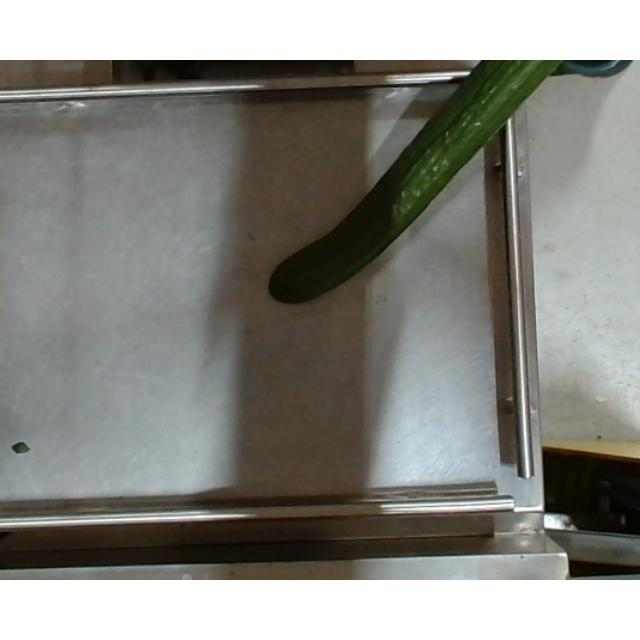cucumber: (269, 61, 567, 306)
